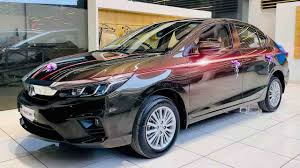Honda: (19, 19, 290, 158)
